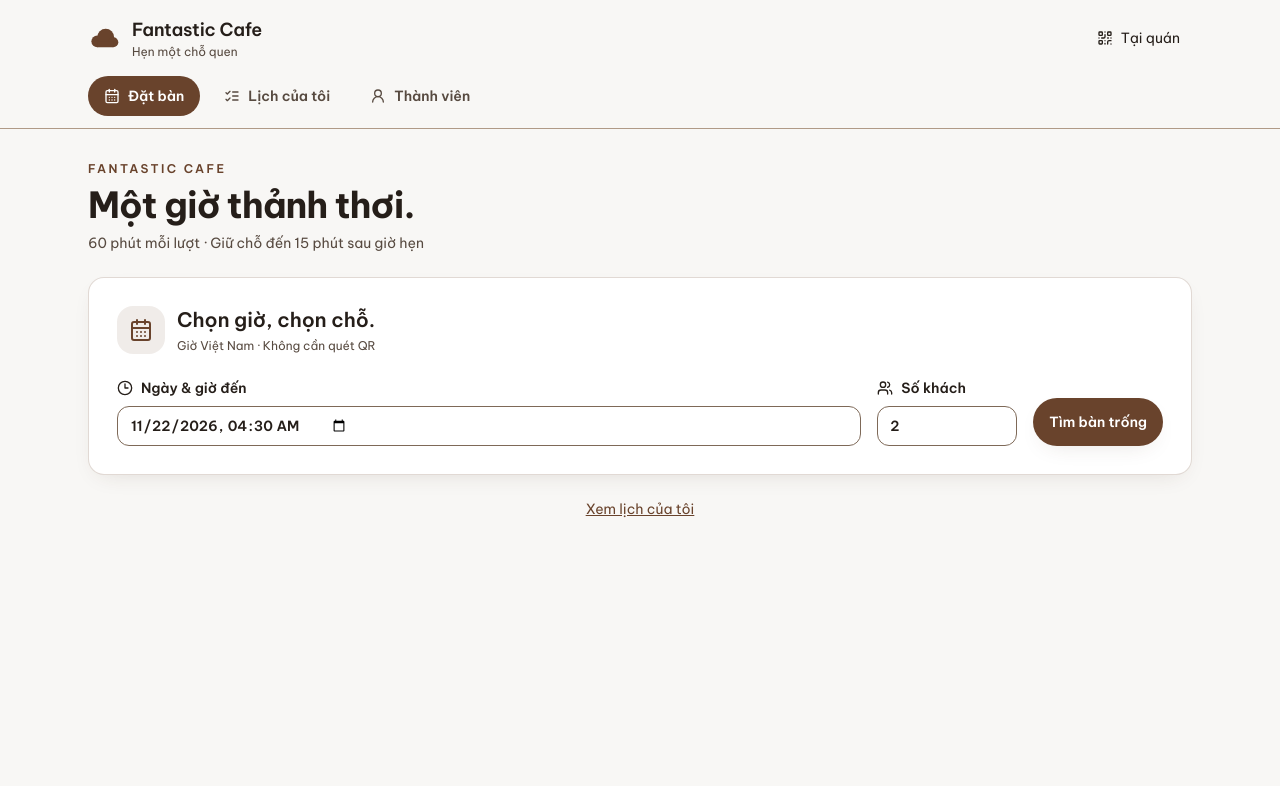
standalone reservation UI › unlocks rejected bookings so another time can be selected
What coordinates should you click on to do the following:
click the button "Tìm bàn trống"
I would click on:
 (1098, 422)
Its box is [1033,398,1163,446].
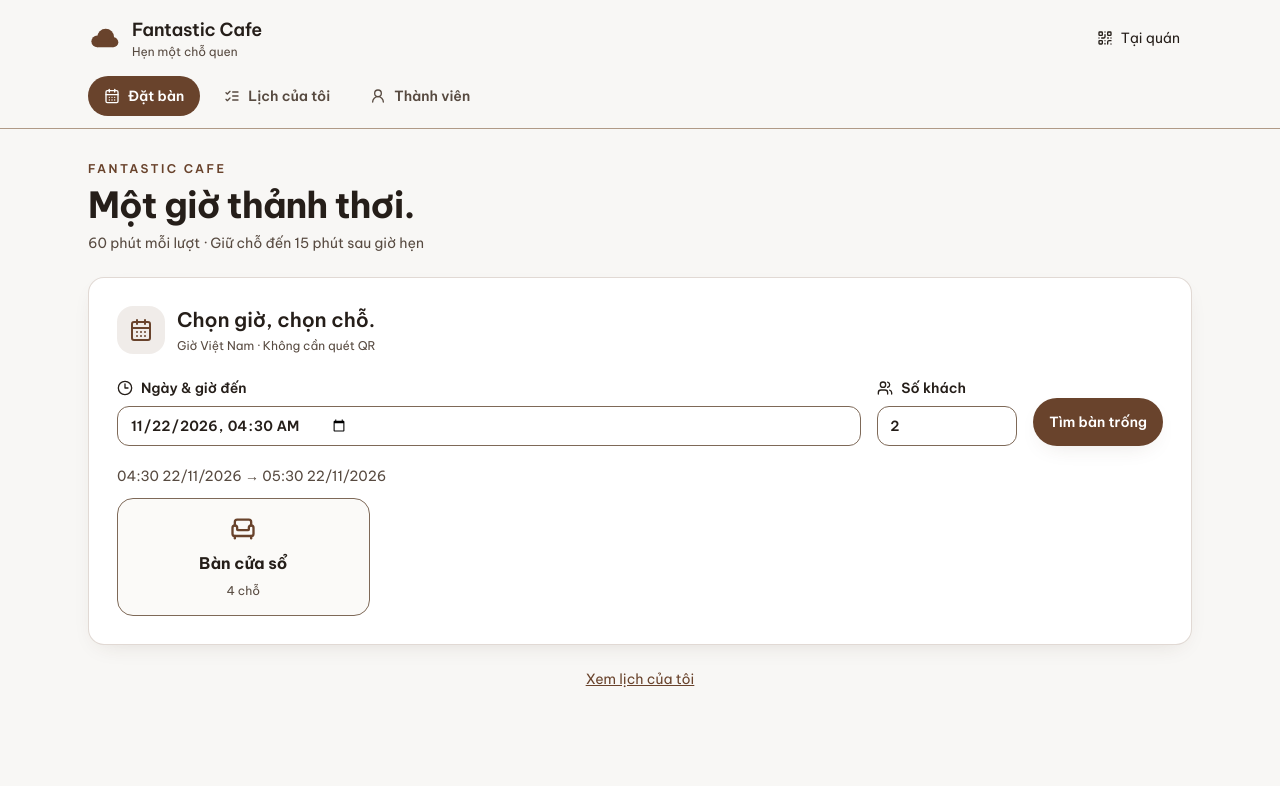
What coordinates should you click on to do the following:
click the button with aria-label "Bàn cửa sổ · 4 chỗ"
I would click on:
 (243, 557)
Its box is [117,498,370,616].
(page scrolled)
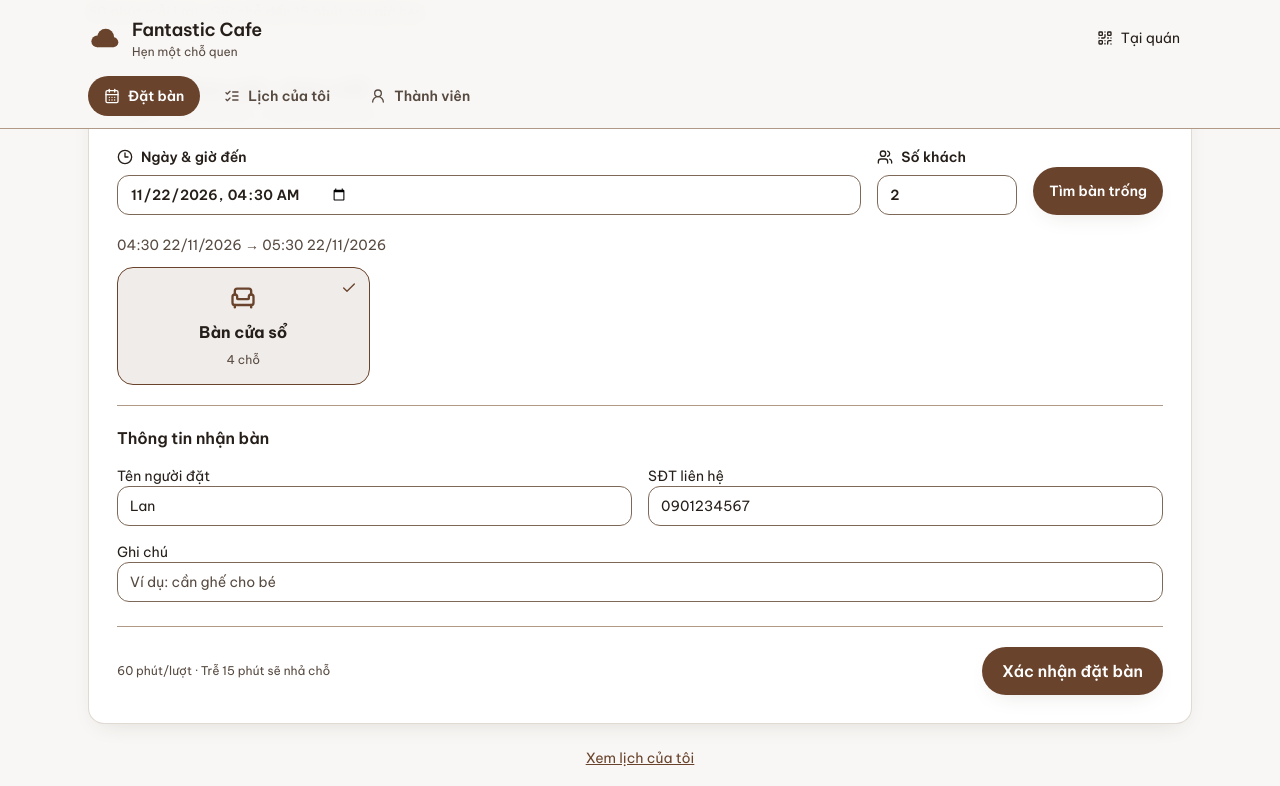
What coordinates should you click on to do the following:
click the button "Xác nhận đặt bàn"
I would click on:
 (1072, 671)
Its box is [982,647,1163,695].
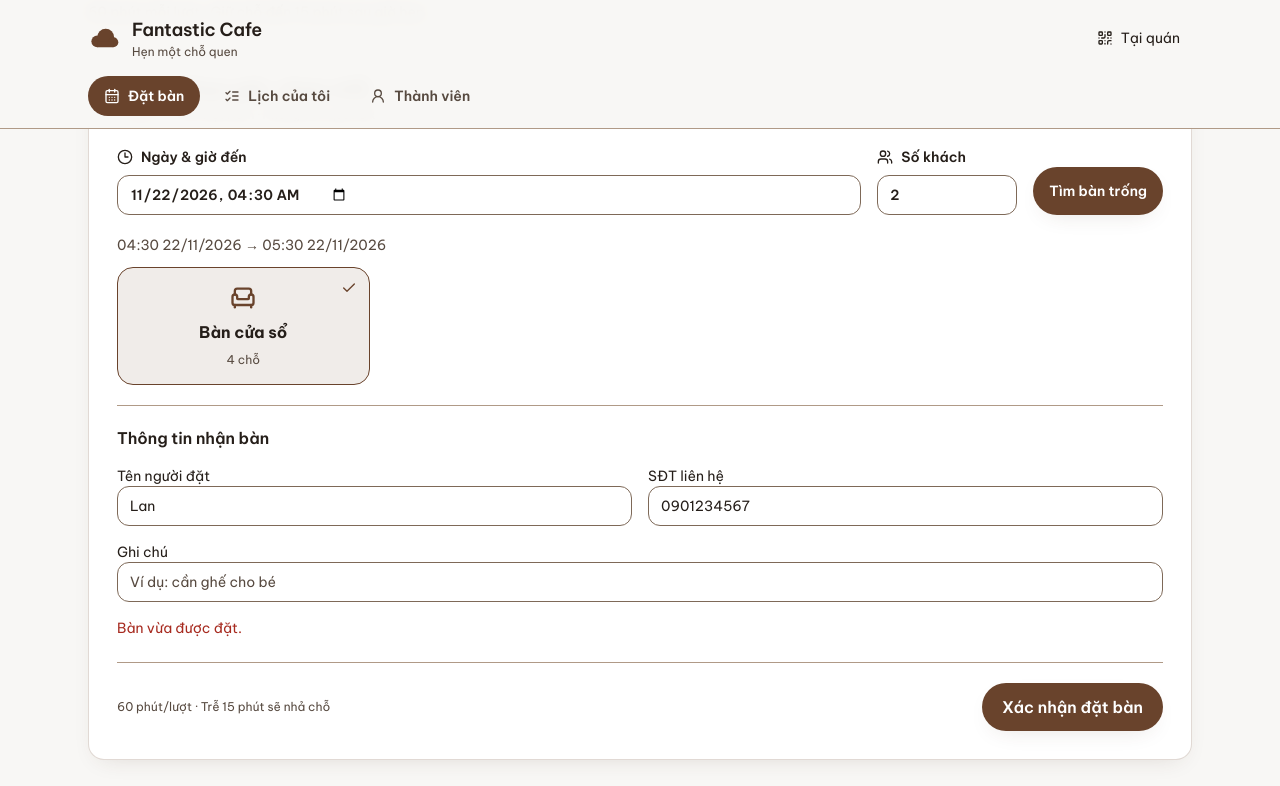
Expected: the message "Bàn vừa được đặt." is shown, [117,619,242,637]
